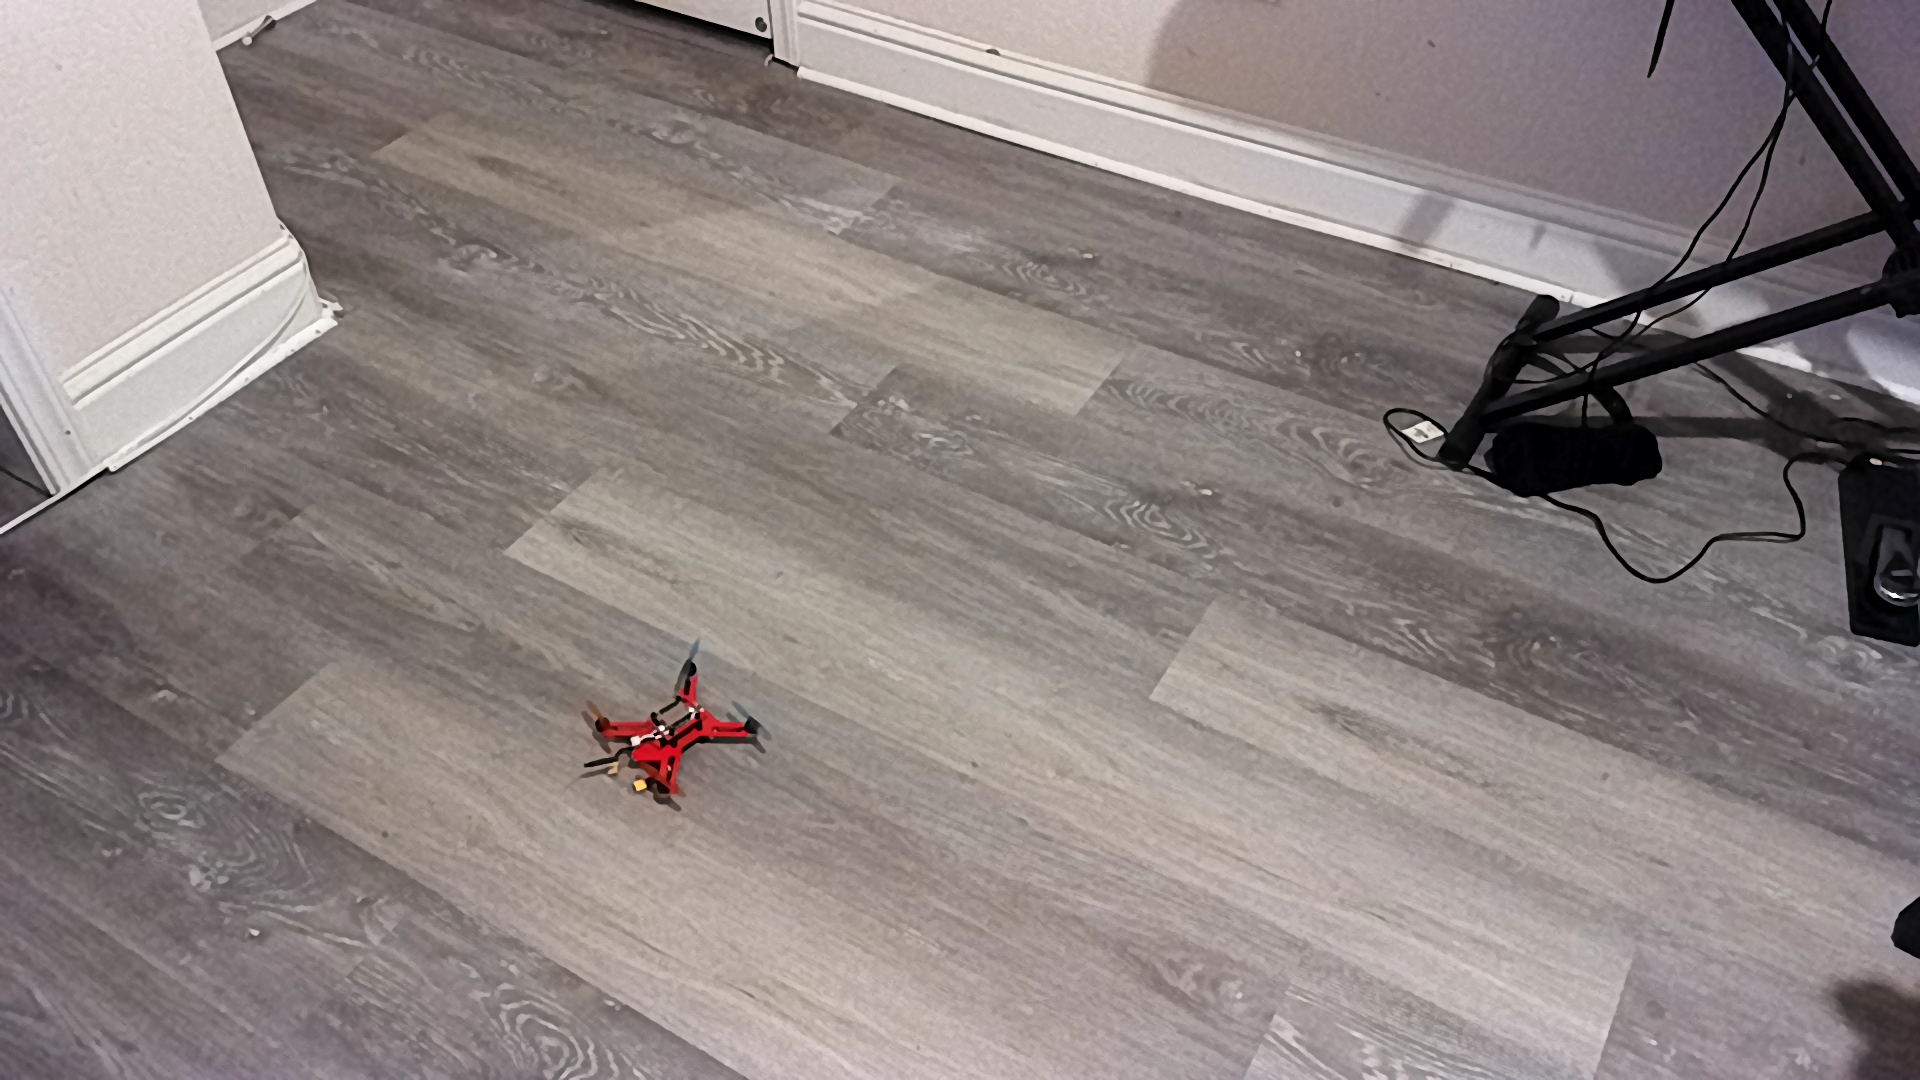drone: (584, 640, 790, 815)
